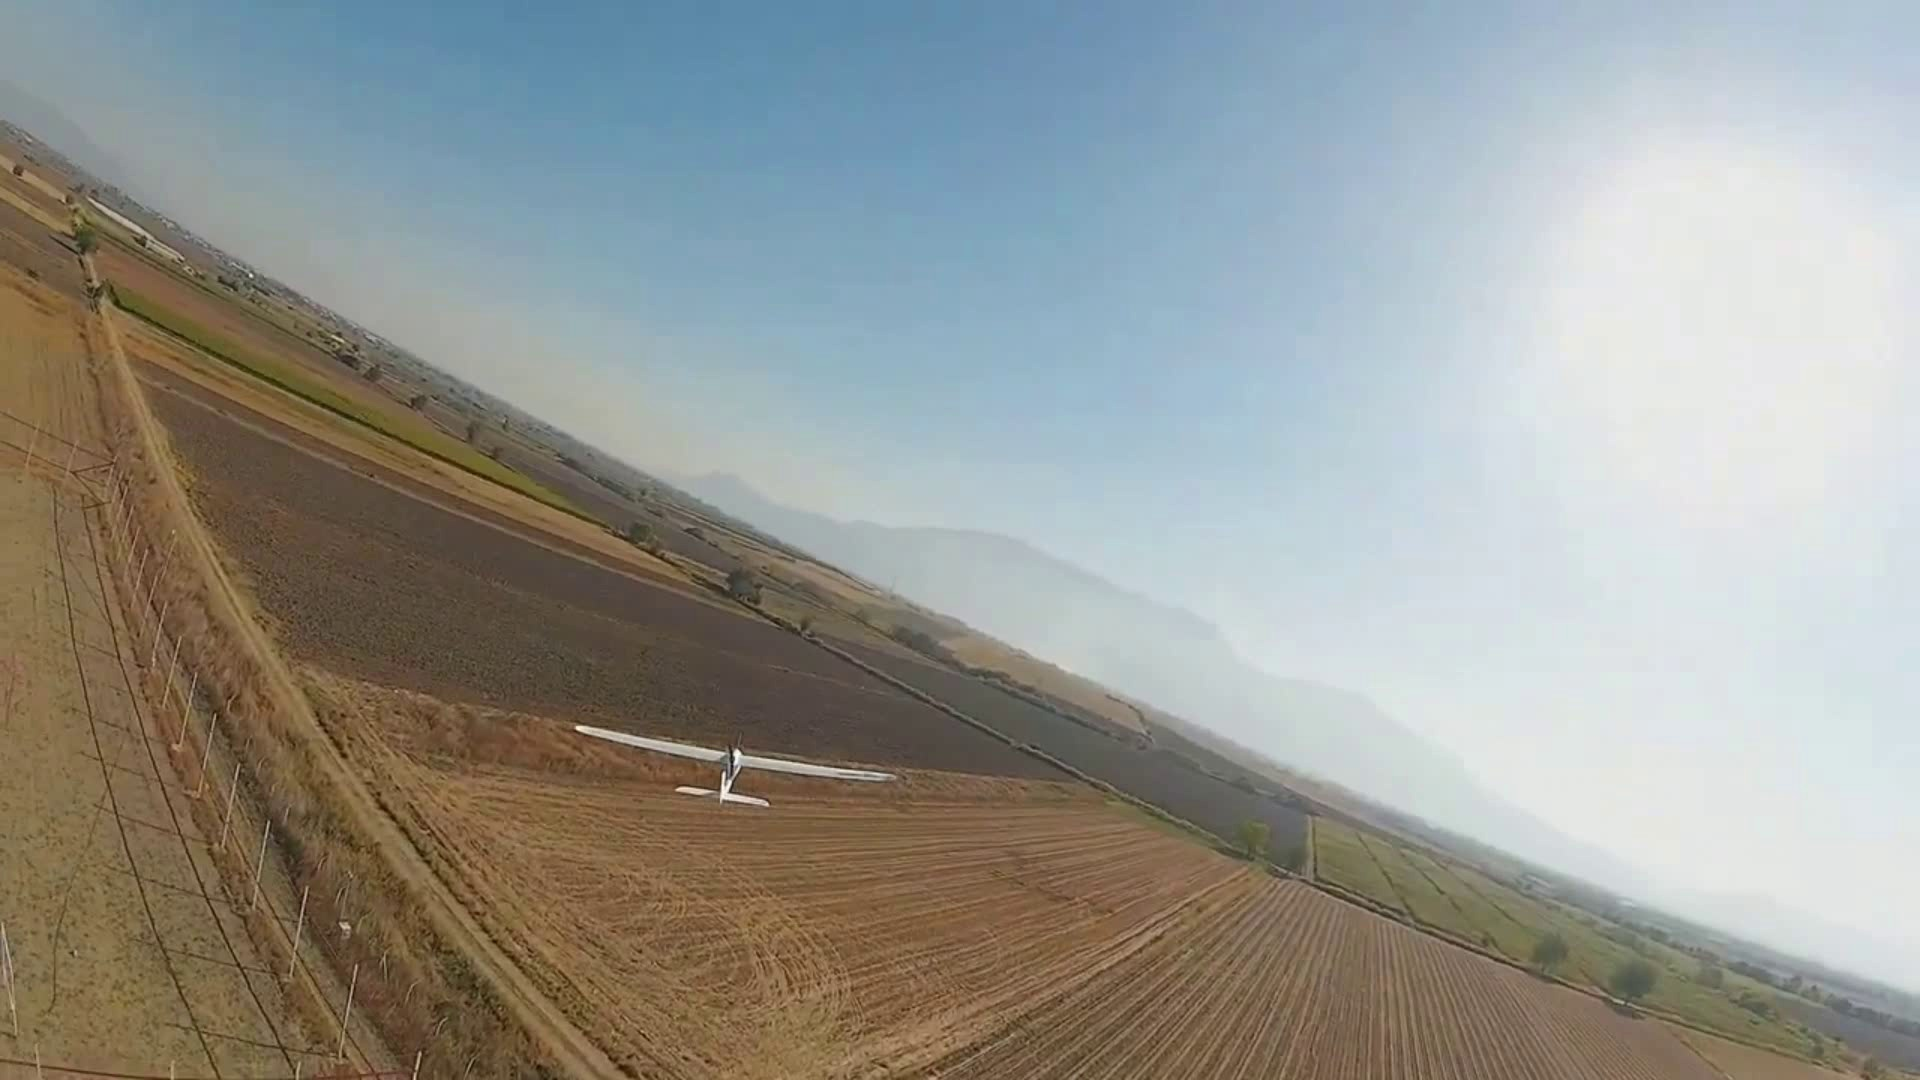airplane: (12, 199, 1917, 1048)
